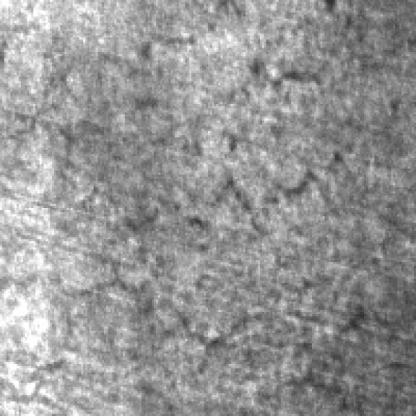crazing: (110, 163, 379, 348), (64, 19, 326, 156)
